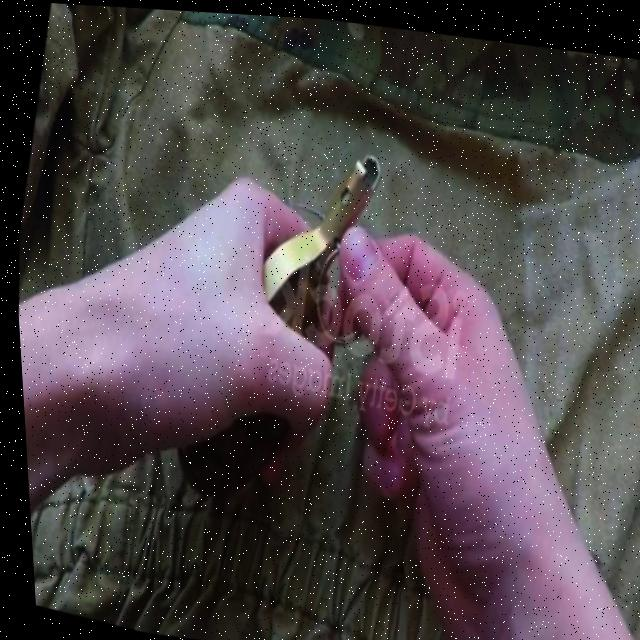grenade: (145, 99, 396, 523)
